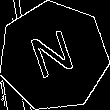N_S: (26, 26, 81, 87)
